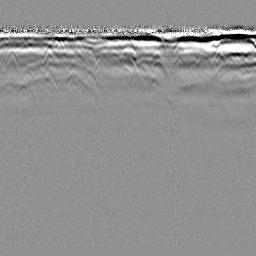cavity: (119, 45, 138, 60)
